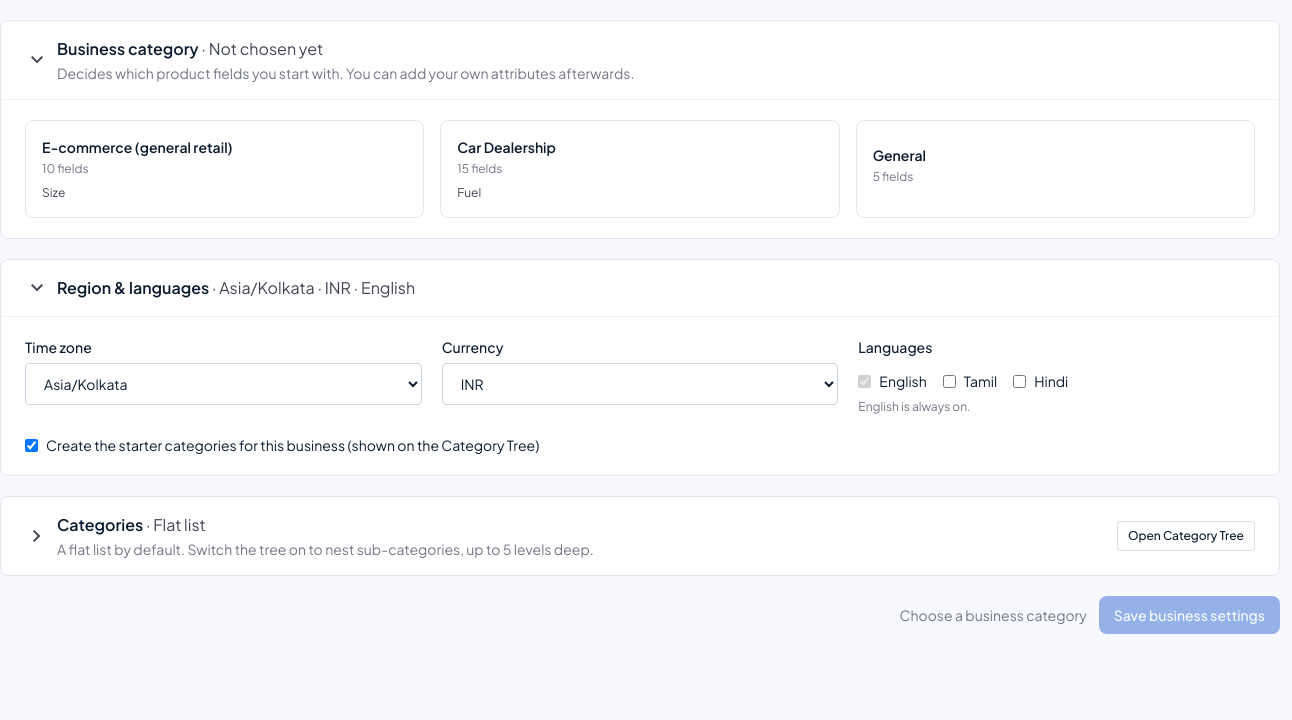
Test: BusinessSettingsTab › saves a first choice and reports the loaded fields
The image size is (1292, 720).
Click the radio button labelled "Car Dealership 15 fields Fuel".
click(507, 147)  # box [440,120,840,218]
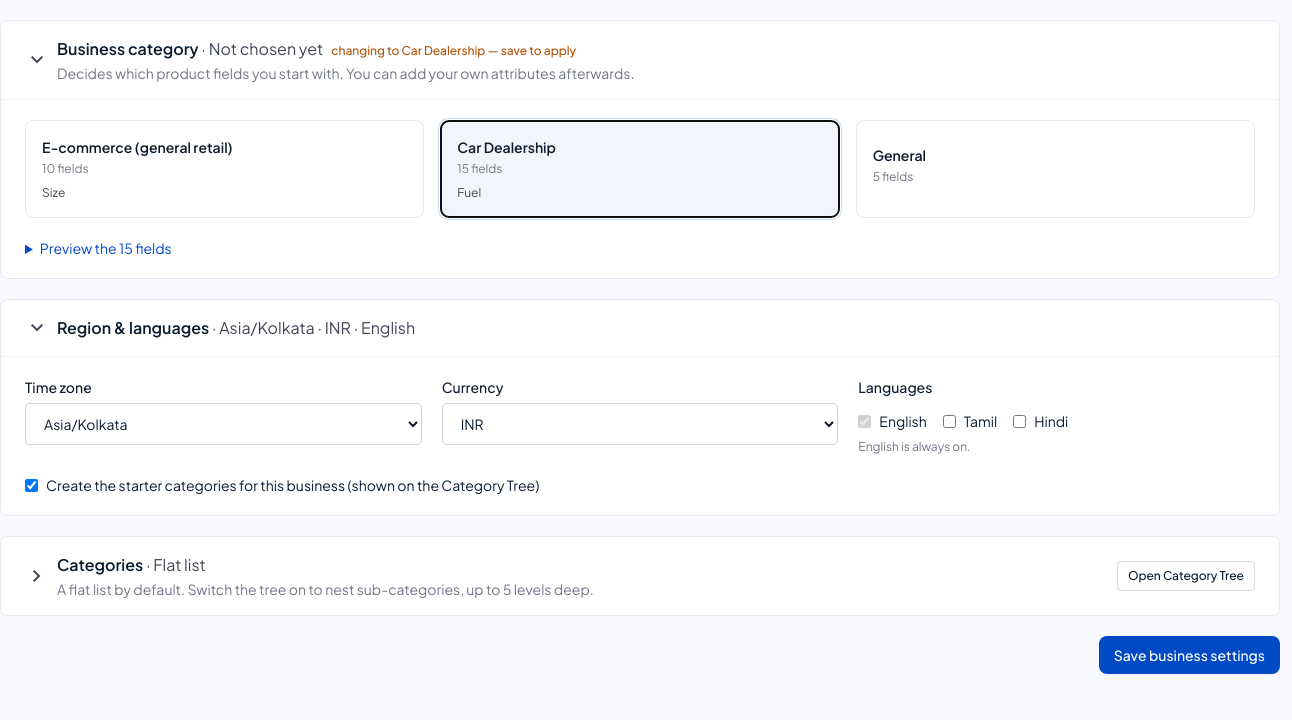
Click the button "Save business settings".
click(1189, 655)  # box [1099,636,1280,674]
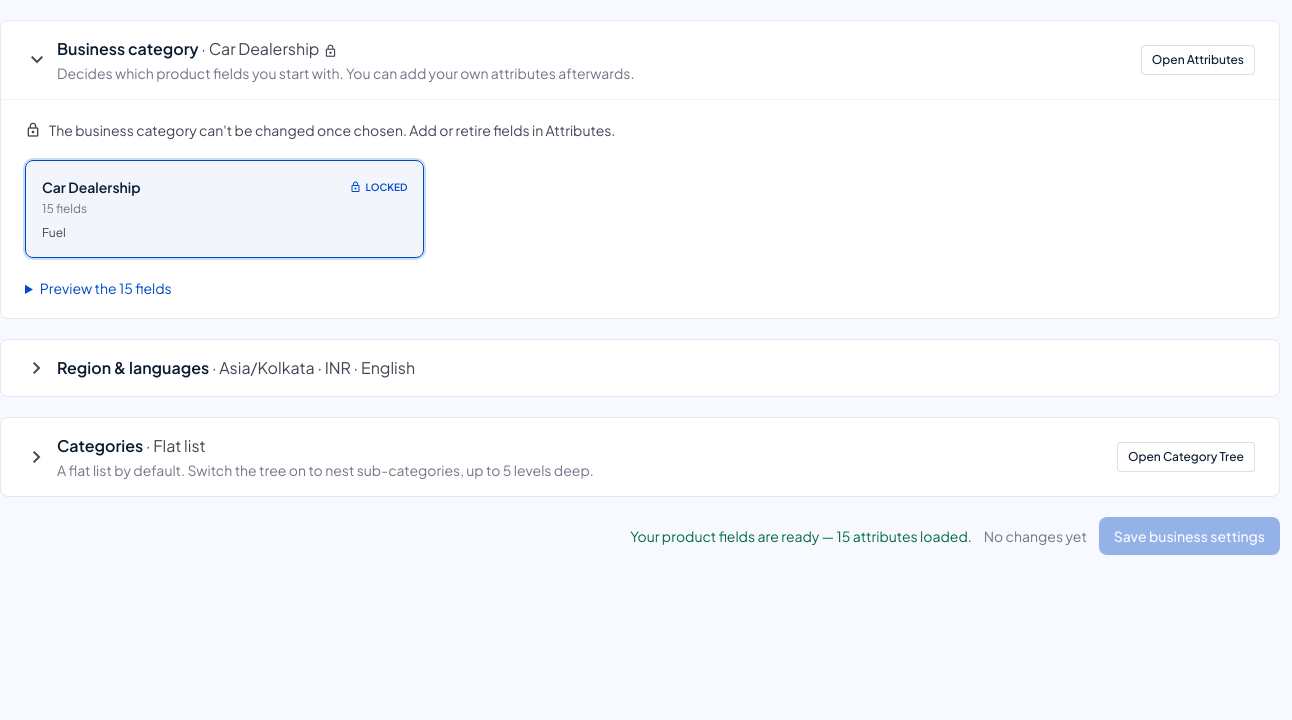
Expected: the message shows "15 attributes loaded", [630,527,972,545]
